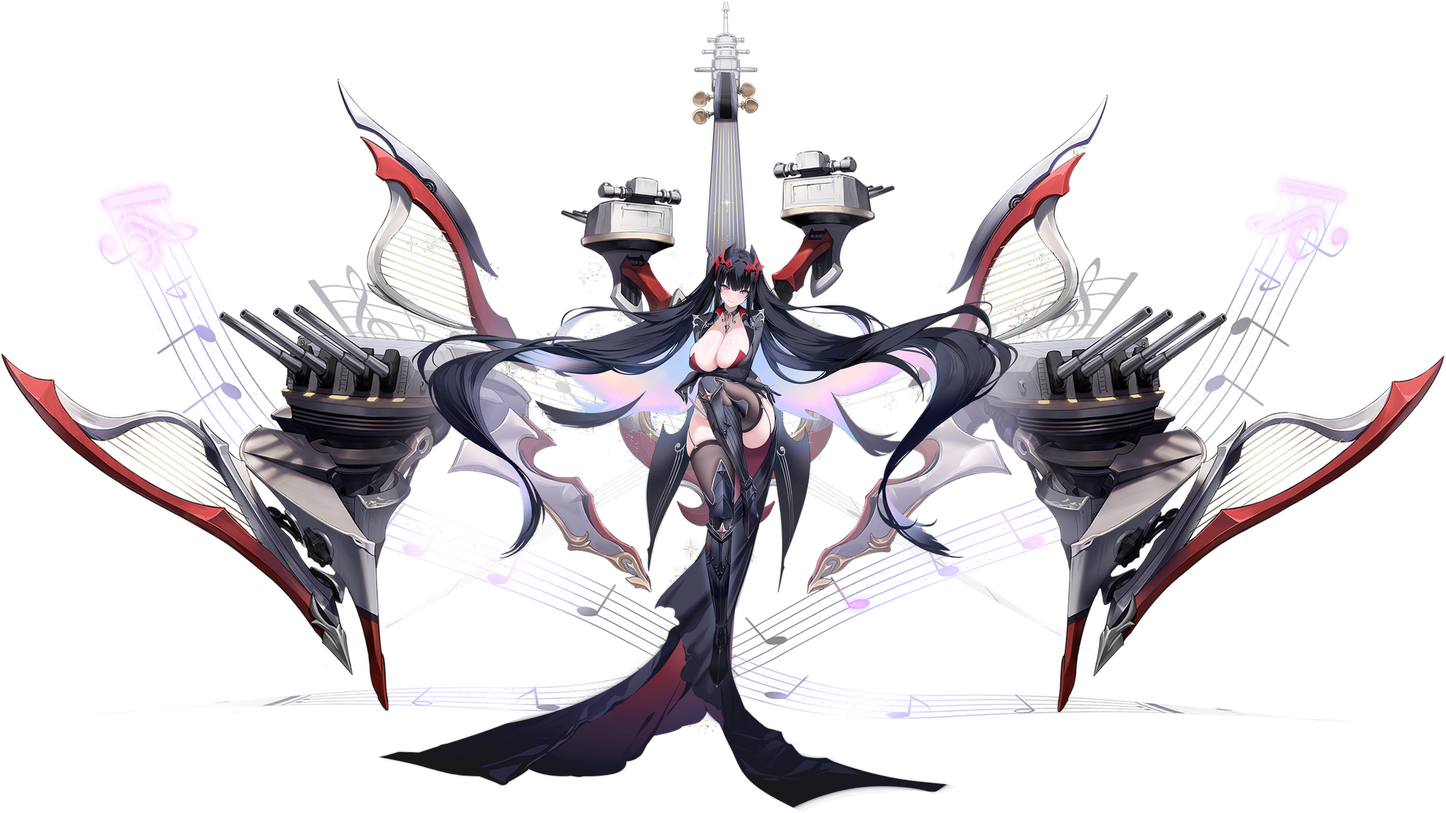person: (380, 116, 1053, 812)
